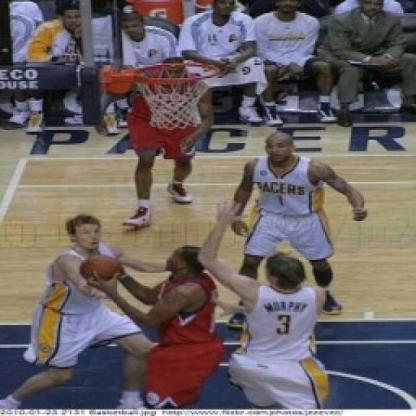basketball: (77, 249, 129, 291)
